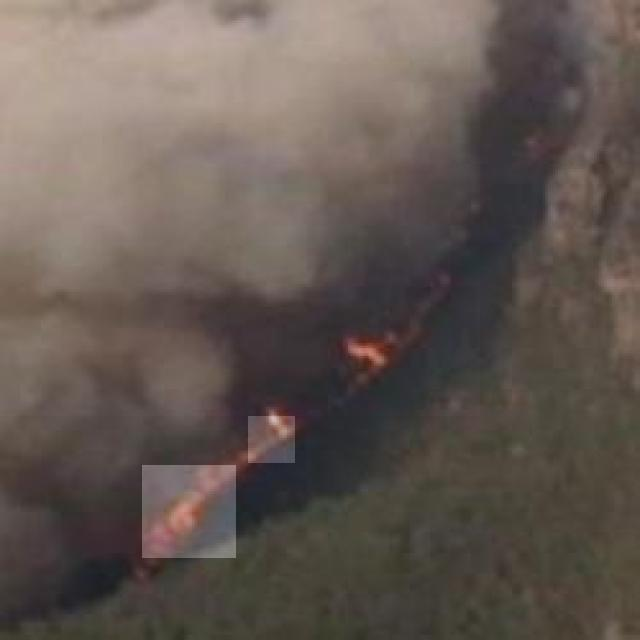Fire: (142, 465, 236, 558), (344, 324, 417, 380), (248, 406, 295, 463)
Smoke: (0, 0, 480, 416)
